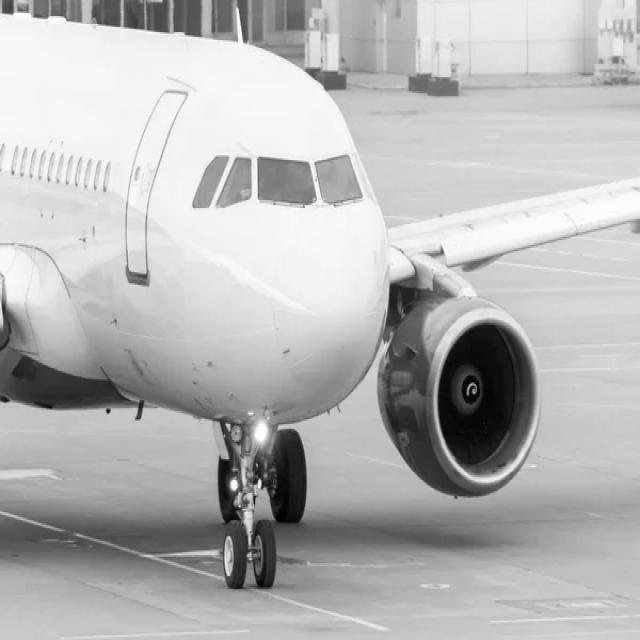Aircraft: (5, 19, 573, 587)
